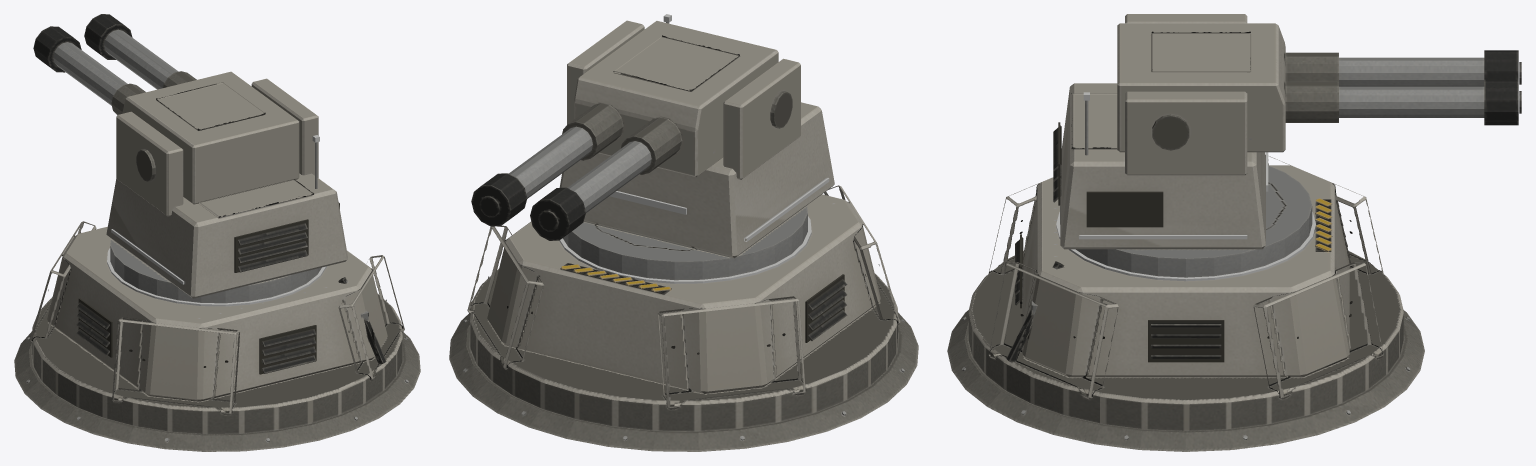
The model's file is ord_gauntlet.fbx.
3 views of the same model, side by side, from view 1: azimuth 30°, elevation 25°; view 2: azimuth 150°, elevation 25°; view 3: azimuth 270°, elevation 25° (orthographic). The views are drawn at different scales.
Visible parts, largest first — view 1: base_bar, turret_bar, barrel_bar, base_glow_running_bar, turret_glow_running_bar; view 2: base_bar, barrel_bar, turret_bar, base_glow_running_bar, turret_glow_running_bar; view 3: base_bar, turret_bar, barrel_bar, base_glow_running_bar, turret_glow_running_bar.
Boxes of the visible parts, box(x1,y1,x2,y2) form: base_bar: box(14, 205, 420, 451); turret_bar: box(106, 78, 347, 298); barrel_bar: box(33, 14, 299, 204); base_glow_running_bar: box(107, 248, 326, 306); turret_glow_running_bar: box(111, 135, 319, 284); base_bar: box(449, 185, 918, 451); barrel_bar: box(471, 21, 778, 240); turret_bar: box(559, 20, 834, 258); base_glow_running_bar: box(559, 216, 811, 283); turret_glow_running_bar: box(609, 14, 829, 241); base_bar: box(947, 154, 1424, 451); turret_bar: box(1053, 14, 1265, 249); barrel_bar: box(1117, 23, 1521, 152); base_glow_running_bar: box(1056, 212, 1315, 281); turret_glow_running_bar: box(1079, 92, 1268, 239).
Size of the model in its own units: 1250 by 1067 by 1503.
2 materials, 2 textured.
